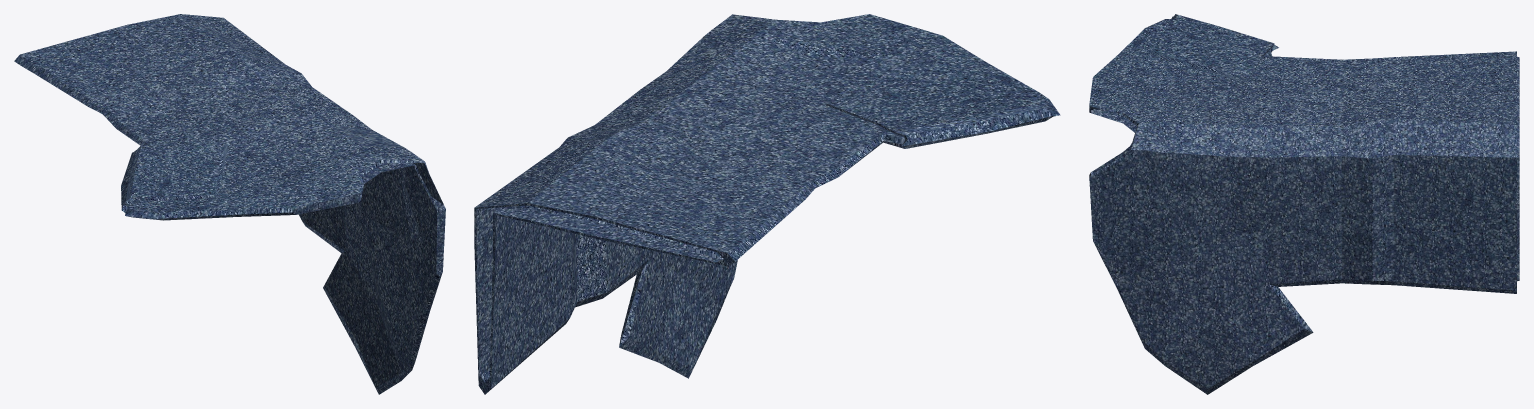
Rendered from camiseta4_3.fbx.
3 views of the same model, side by side, from view 1: azimuth 30°, elevation 25°; view 2: azimuth 150°, elevation 25°; view 3: azimuth 270°, elevation 25° (orthographic). The views are drawn at different scales.
Parts seen in each view (by area): view 1: shirt6:Mesh; view 2: shirt6:Mesh; view 3: shirt6:Mesh.
Part boxes in pixels (x1,y1,x2,y2): shirt6:Mesh: (14, 14, 445, 394); shirt6:Mesh: (474, 14, 1060, 394); shirt6:Mesh: (1089, 14, 1519, 394).
Bounding box in the file's own units: 1.79 × 1.63 × 2.45.
Materials: 1 (1 with a texture image).
